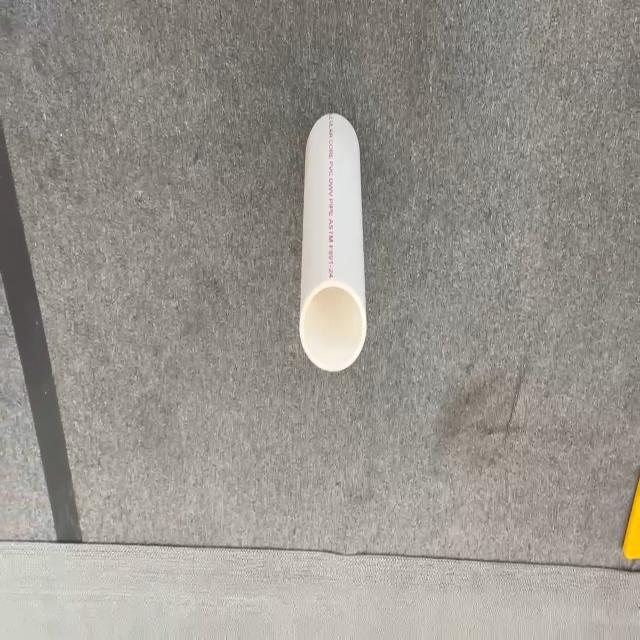coral: (298, 110, 368, 372)
